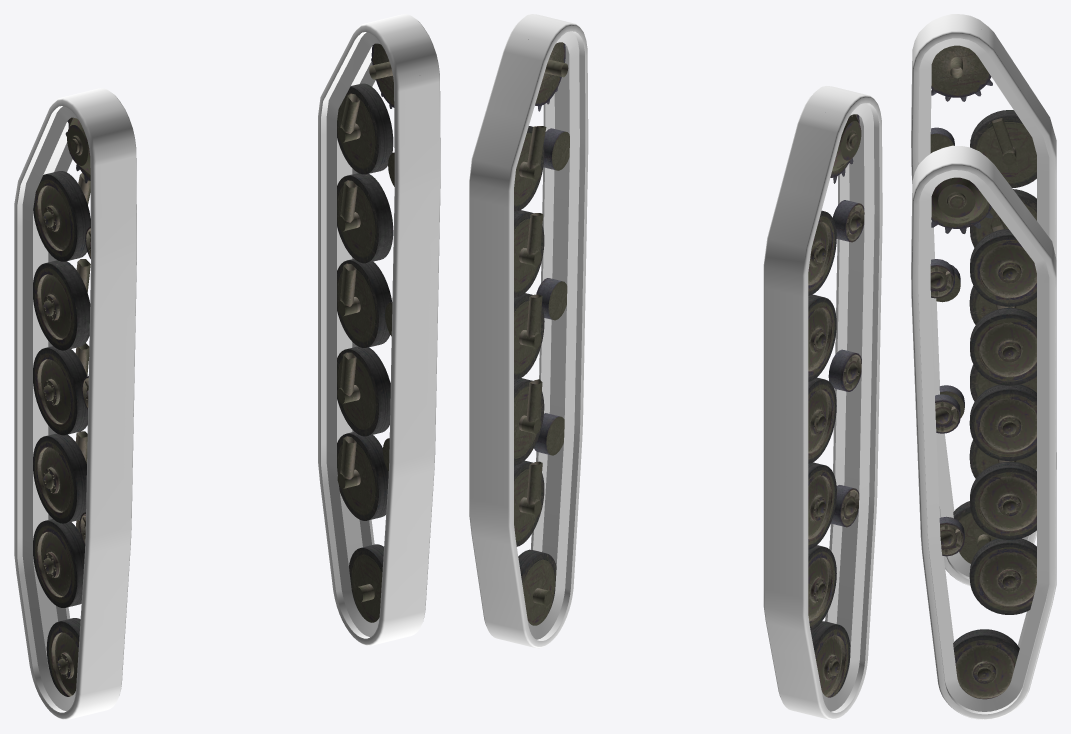
Rendered from Chassis.glb.
The picture shows the model from 3 angles, left to right: view 1: azimuth 30°, elevation 25°; view 2: azimuth 150°, elevation 25°; view 3: azimuth 270°, elevation 25°; orthographic projection. The views are drawn at different scales.
Visible parts, largest first — view 1: set_2_group_0, set_3_group_0, set_1_group_0, set_0_group_0; view 2: set_2_group_0, set_3_group_0, set_0_group_0, set_1_group_0; view 3: set_0_group_0, set_3_group_0, set_2_group_0, set_1_group_0.
Boxes of the visible parts, box(x1,y1,x2,y2) form: set_2_group_0: box(14, 88, 136, 719); set_3_group_0: box(318, 14, 440, 645); set_1_group_0: box(33, 117, 90, 696); set_0_group_0: box(337, 43, 394, 622); set_2_group_0: box(763, 86, 882, 719); set_3_group_0: box(469, 14, 588, 648); set_0_group_0: box(514, 39, 569, 625); set_1_group_0: box(808, 114, 864, 697); set_0_group_0: box(930, 177, 1036, 699); set_3_group_0: box(911, 145, 1056, 719); set_2_group_0: box(911, 14, 1056, 586); set_1_group_0: box(930, 45, 1036, 563).
Size of the model in its own units: 2.41 by 4.16 by 0.9867.
Materials: 4 (2 with a texture image).
